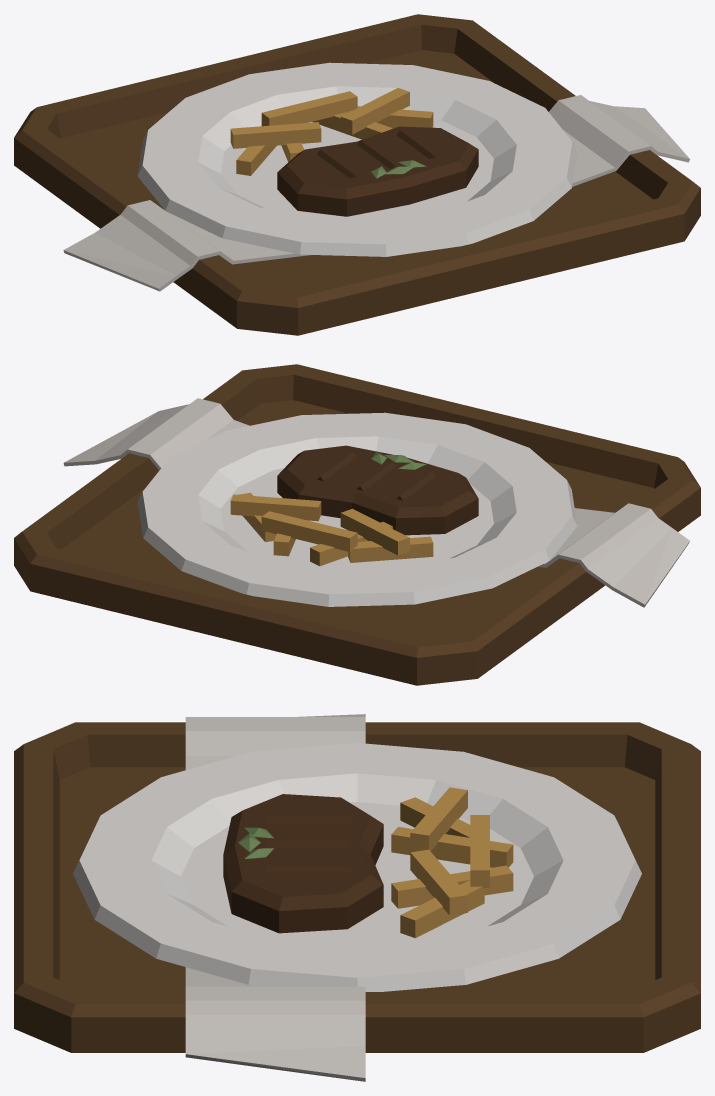
The model's file is podnos_tarelka_food_1.glb.
3 renders of one model, top to bottom at view 1: azimuth 30°, elevation 25°; view 2: azimuth 150°, elevation 25°; view 3: azimuth 270°, elevation 25°, orthographic. The views are drawn at different scales.
Parts seen in each view (by area): view 1: mesh_0; view 2: mesh_0; view 3: mesh_0.
Boxes of the visible parts, x1=… form: mesh_0: x1=14, y1=14, x2=700, y2=335; mesh_0: x1=14, y1=364, x2=700, y2=685; mesh_0: x1=14, y1=714, x2=700, y2=1081.
Bounding box in the file's own units: 0.5267 × 0.0475 × 0.42.
